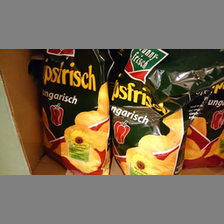chips: (113, 49, 202, 177), (35, 49, 111, 174)
